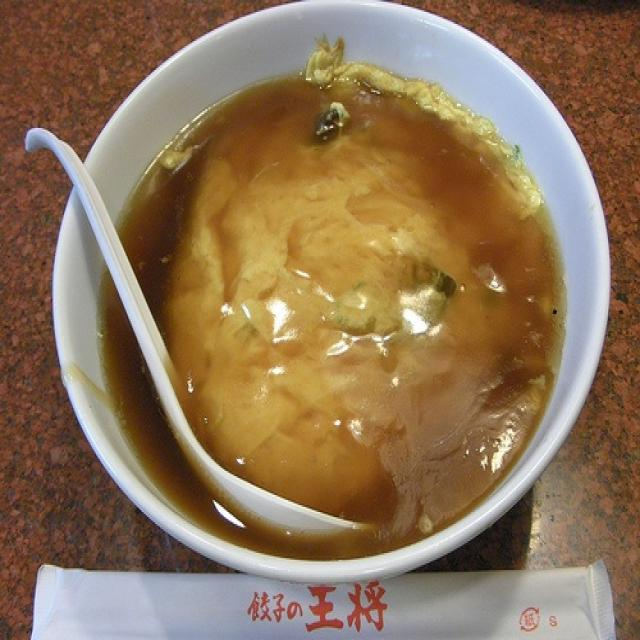面条主食: (46, 3, 613, 582)
